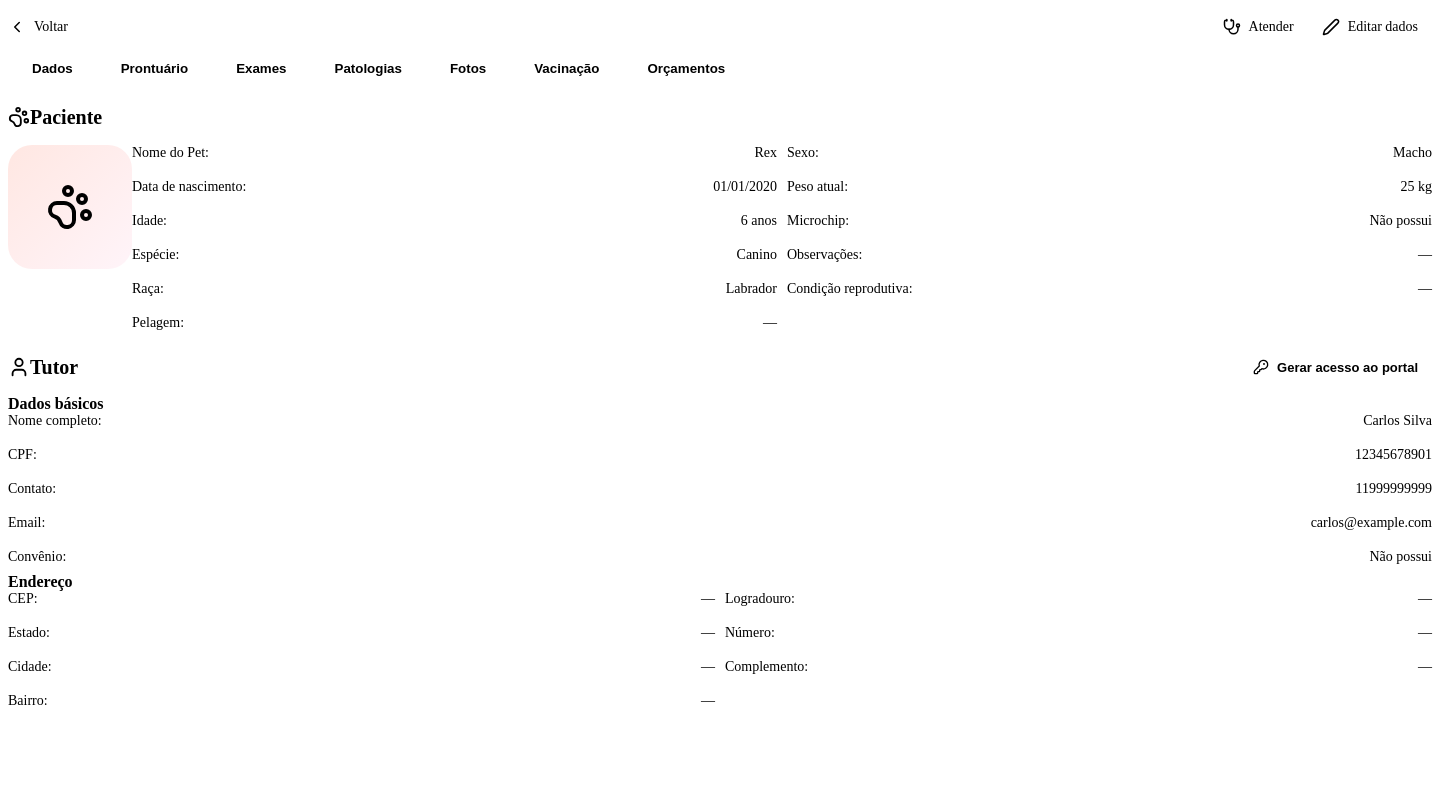
Test: PatientDetailsPage — Aba Exames e Classificação Clínica › exibe mensagem quando o filtro não encontra exames correspondentes
Expected: the text "Rex" is shown, left=754, top=145, right=777, bottom=161
Click the button "Exames" at (261, 68), box left=212, top=47, right=310, bottom=90
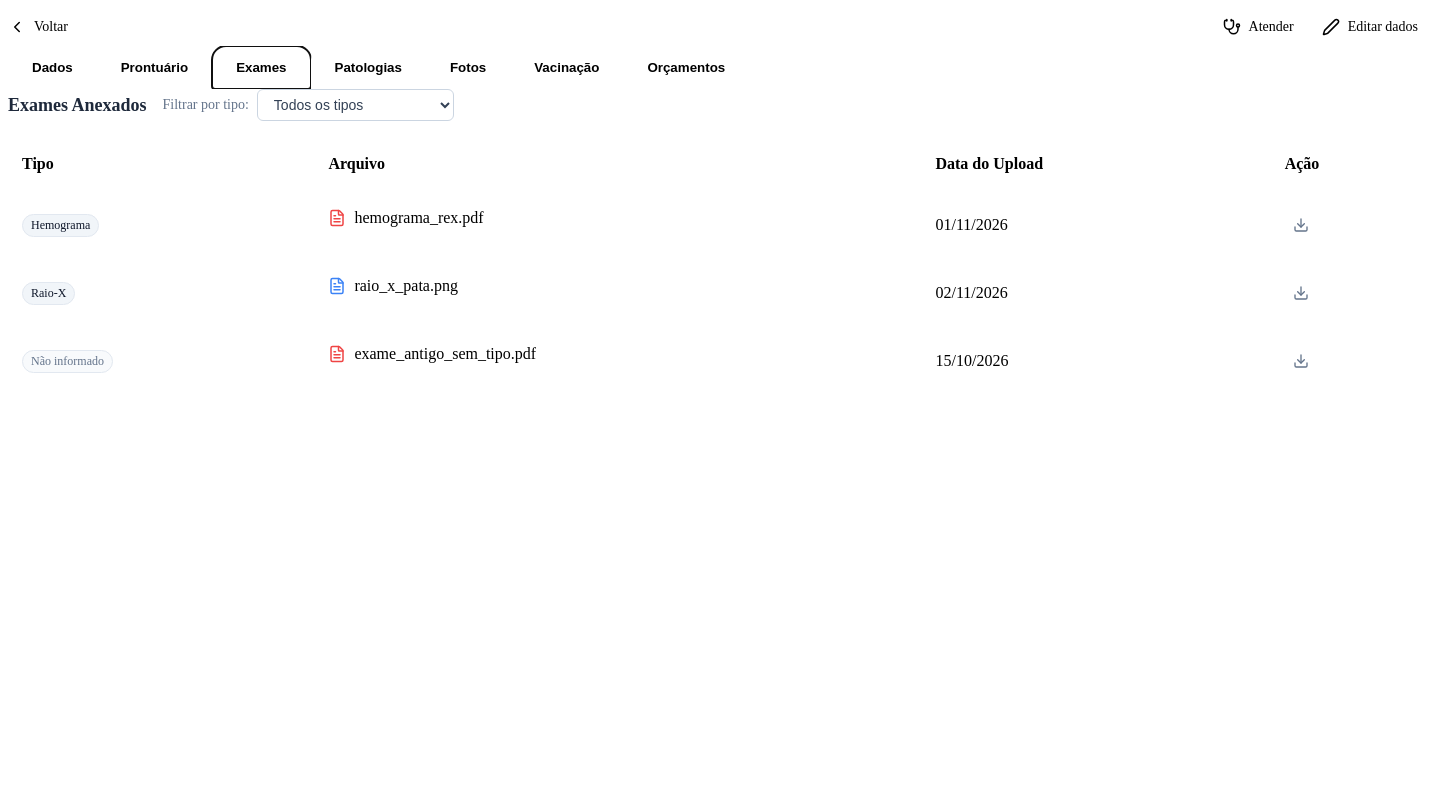
Note: Filter by ULTRASSOM (none)
Select "Ultrassom" in the dropdown named "Filtrar por tipo de exame" at (355, 105), box left=257, top=89, right=454, bottom=121
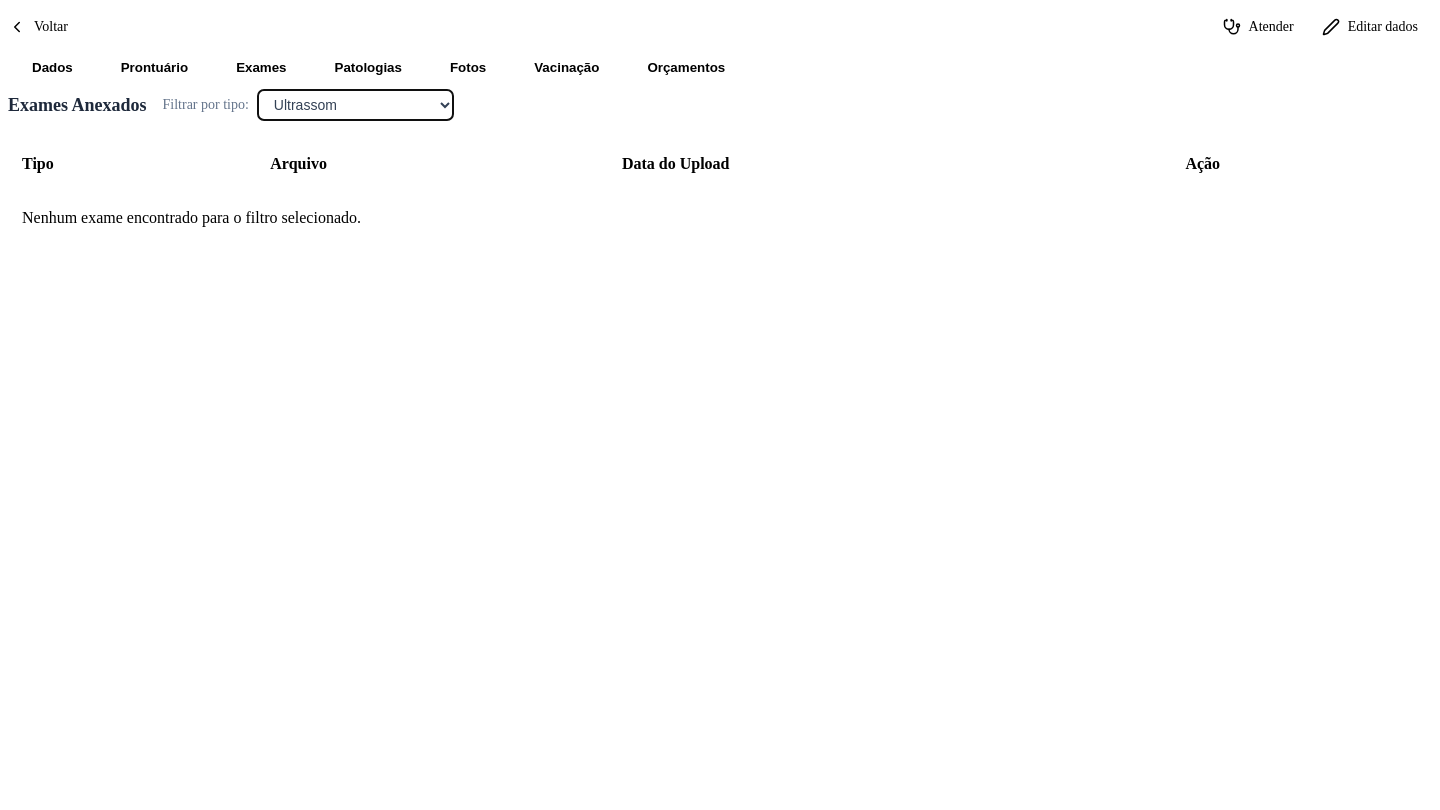
Result: the text "Nenhum exame encontrado para o filtro selecionado." is shown at left=8, top=191, right=1432, bottom=245
